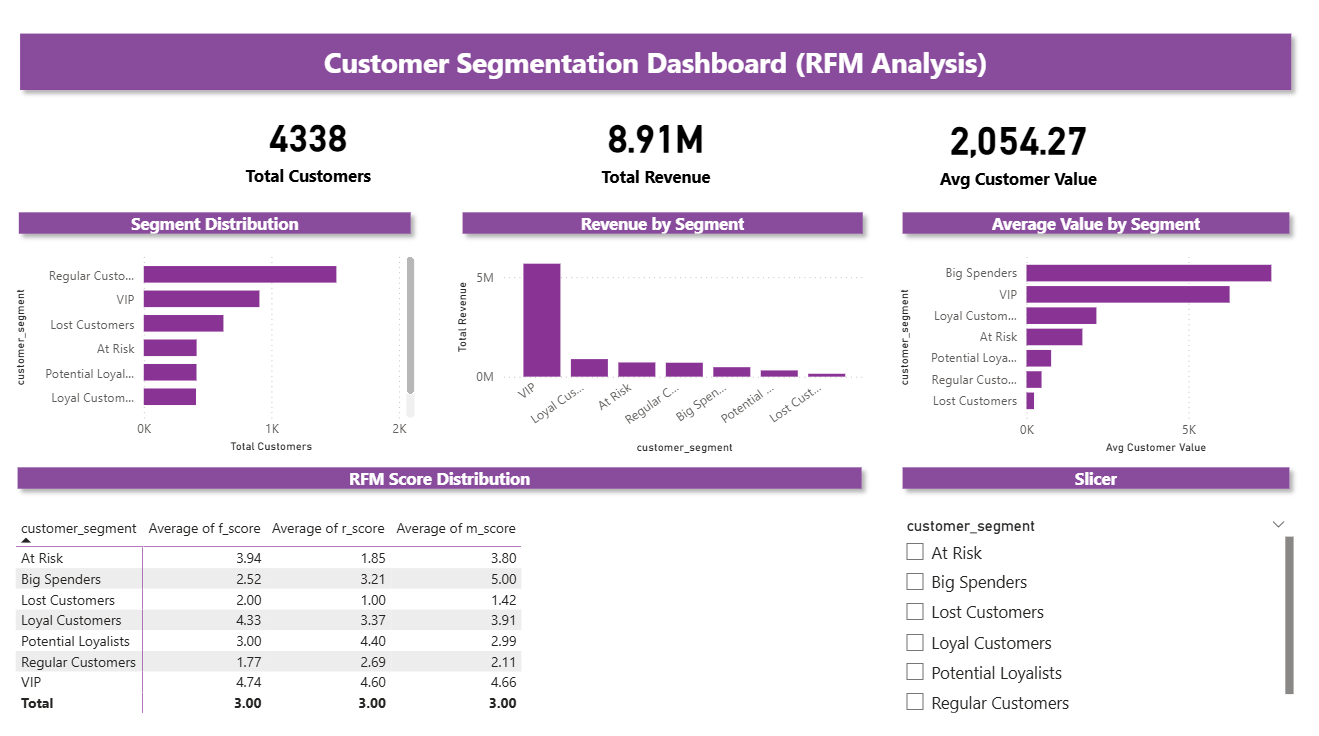

The page's visual inventory and layout, read from the dashboard file:
{"tool":"powerbi","page":{"name":"Customer Segmentation Overview","canvas":[1280,720],"ordinal":0},"visuals":[{"type":"card","fields":{"Values":["customer_segments.Total Customers"]},"box":[161,103.1,280.2,91.8],"z":0},{"type":"card","fields":{"Values":["customer_segments.Total Revenue"]},"box":[496,103.1,280.2,91.8],"z":1000},{"type":"card","fields":{"Values":["customer_segments.Avg Customer Value"]},"box":[845.5,104.7,280.2,91.8],"z":2000},{"type":"shape","box":[12.9,30.6,1244.9,72.5],"z":3000},{"type":"shape","box":[11.6,202.3,396.2,38.7],"z":4000},{"type":"shape","box":[440,202.3,404.2,38.7],"z":5000},{"type":"shape","box":[865.1,202.3,391.3,38.7],"z":6000},{"type":"shape","box":[11.3,449.3,832.6,38.7],"z":7000},{"type":"shape","box":[864.8,449.3,391.3,38.7],"z":8000},{"type":"barChart","fields":{"Category":["customer_segments.customer_segment"],"Y":["customer_segments.Total Customers"]},"box":[11.6,240.9,396.2,207.8],"z":9000},{"type":"clusteredColumnChart","fields":{"Category":["customer_segments.customer_segment"],"Y":["customer_segments.Total Revenue"]},"box":[439.7,240.8,404,208],"z":10000},{"type":"barChart","fields":{"Category":["customer_segments.customer_segment"],"Y":["customer_segments.Avg Customer Value"]},"box":[864.7,240.8,391,208],"z":11000},{"type":"pivotTable","fields":{"Values":["Avg(customer_segments.f_score)","Avg(customer_segments.r_score)","Avg(customer_segments.m_score)"],"Rows":["customer_segments.customer_segment"]},"box":[12.9,500.9,832.6,204.5],"z":11001},{"type":"slicer","fields":{"Values":["customer_segments.customer_segment"]},"box":[865,501,391,205],"z":11002}]}

Visuals, with their boxes in screenshot pixels (x1, y1, x2, y2), scaled from the page's 1280x720 canvas onto the 1319x736 screenshot:
card - customer_segments.Total Customers: [166,105,455,199]
card - customer_segments.Total Revenue: [511,105,800,199]
card - customer_segments.Avg Customer Value: [871,107,1160,201]
shape: [13,31,1296,105]
shape: [12,207,420,246]
shape: [453,207,870,246]
shape: [891,207,1295,246]
shape: [12,459,870,499]
shape: [891,459,1294,499]
barChart - customer_segments.customer_segment x customer_segments.Total Customers: [12,246,420,459]
clusteredColumnChart - customer_segments.customer_segment x customer_segments.Total Revenue: [453,246,869,459]
barChart - customer_segments.customer_segment x customer_segments.Avg Customer Value: [891,246,1294,459]
pivotTable - Avg(customer_segments.f_score) x Avg(customer_segments.r_score): [13,512,871,721]
slicer - customer_segments.customer_segment: [891,512,1294,722]
